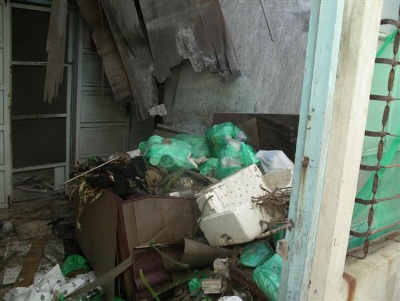plastic_bag: (138, 134, 196, 169), (213, 139, 263, 177), (250, 252, 284, 301), (206, 120, 249, 144), (255, 148, 294, 174), (61, 253, 88, 275)
styrofoam: (196, 200, 275, 248)
